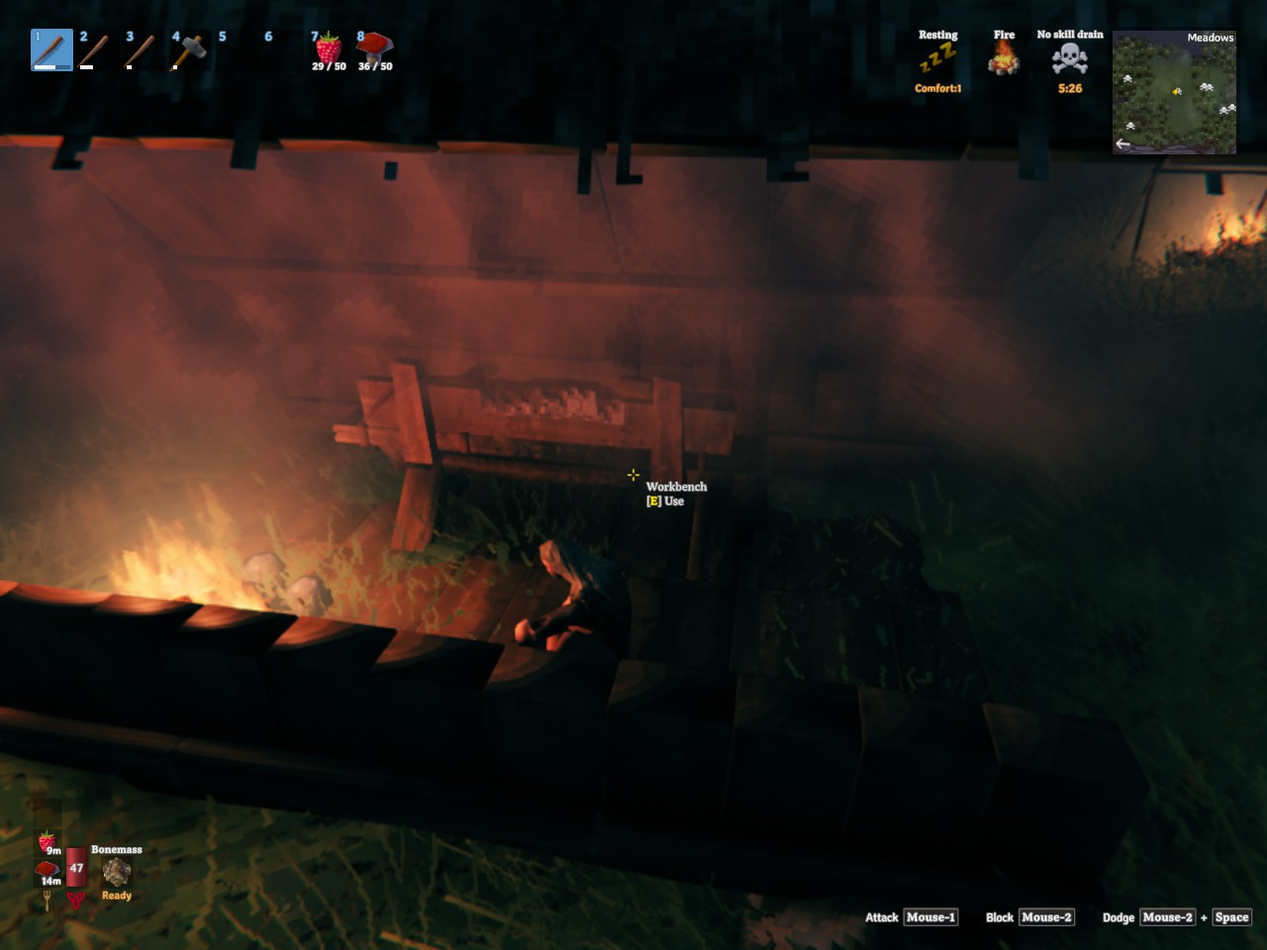Fire: (111, 522, 314, 622)
Status Indicator: (901, 21, 1110, 106)
Workbench: (327, 367, 749, 552)
